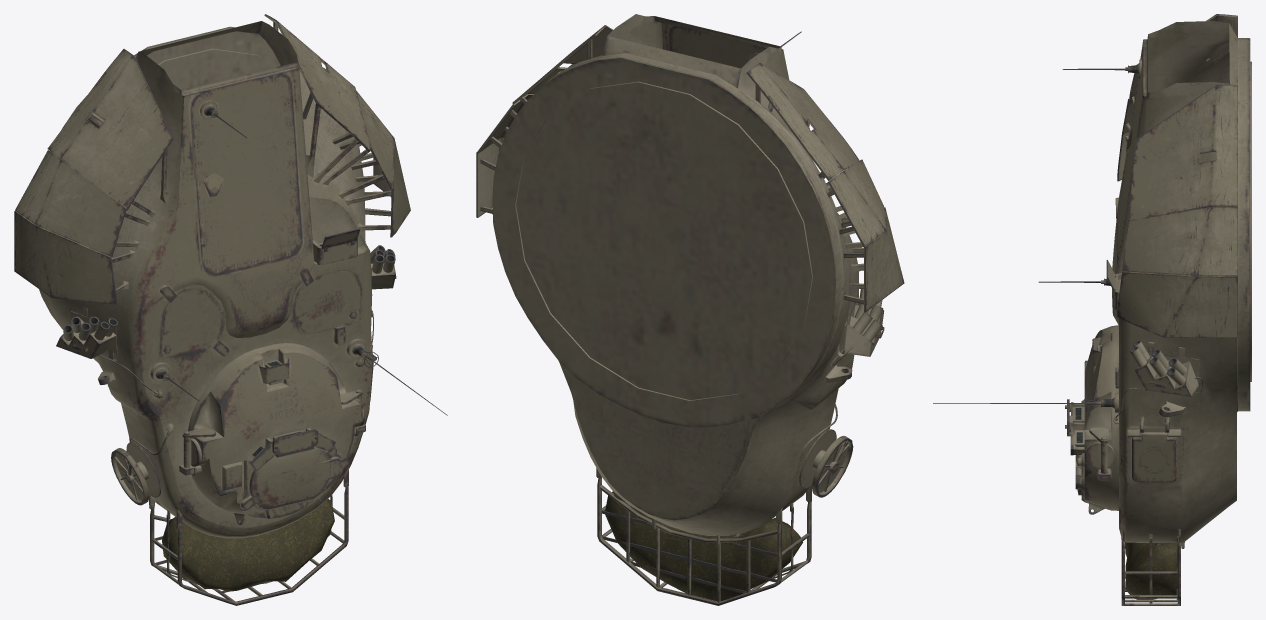
File: Turret_02.glb
The picture shows the model from 3 angles, left to right: view 1: azimuth 30°, elevation 25°; view 2: azimuth 150°, elevation 25°; view 3: azimuth 270°, elevation 25°; orthographic projection. The views are drawn at different scales.
Parts seen in each view (by area): view 1: set_0_group_0; view 2: set_0_group_0; view 3: set_0_group_0.
Part boxes in pixels (<box>): set_0_group_0: <box>14,14,447,605</box>; set_0_group_0: <box>476,14,904,605</box>; set_0_group_0: <box>933,14,1251,605</box>.
Bounding box in the file's own units: 3.12 × 4.39 × 2.36.
Materials: 1 (1 with a texture image).
